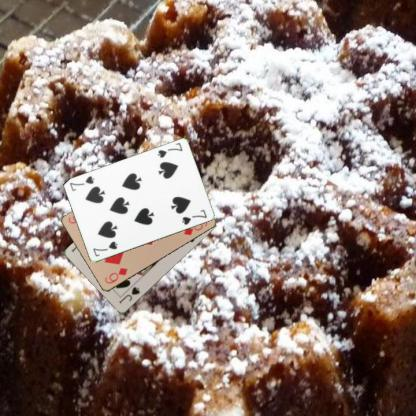6d: (102, 265, 129, 285)
7s: (155, 140, 184, 160), (90, 239, 119, 258)
Js: (116, 284, 141, 305)
